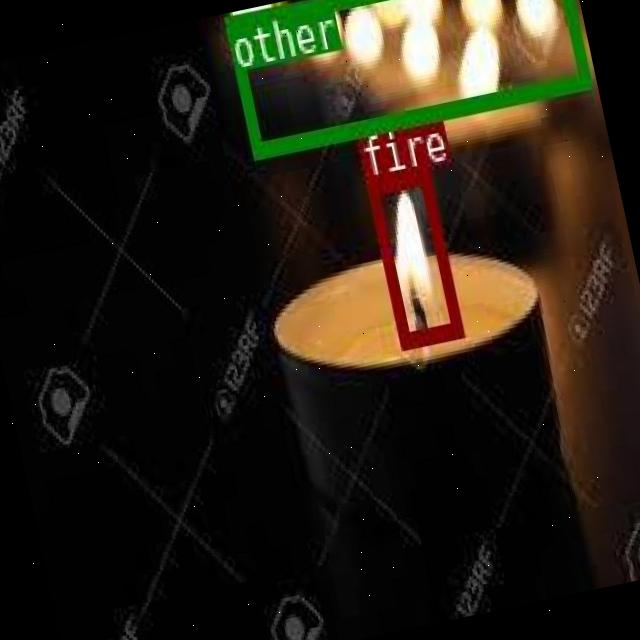fire: (364, 166, 461, 346)
